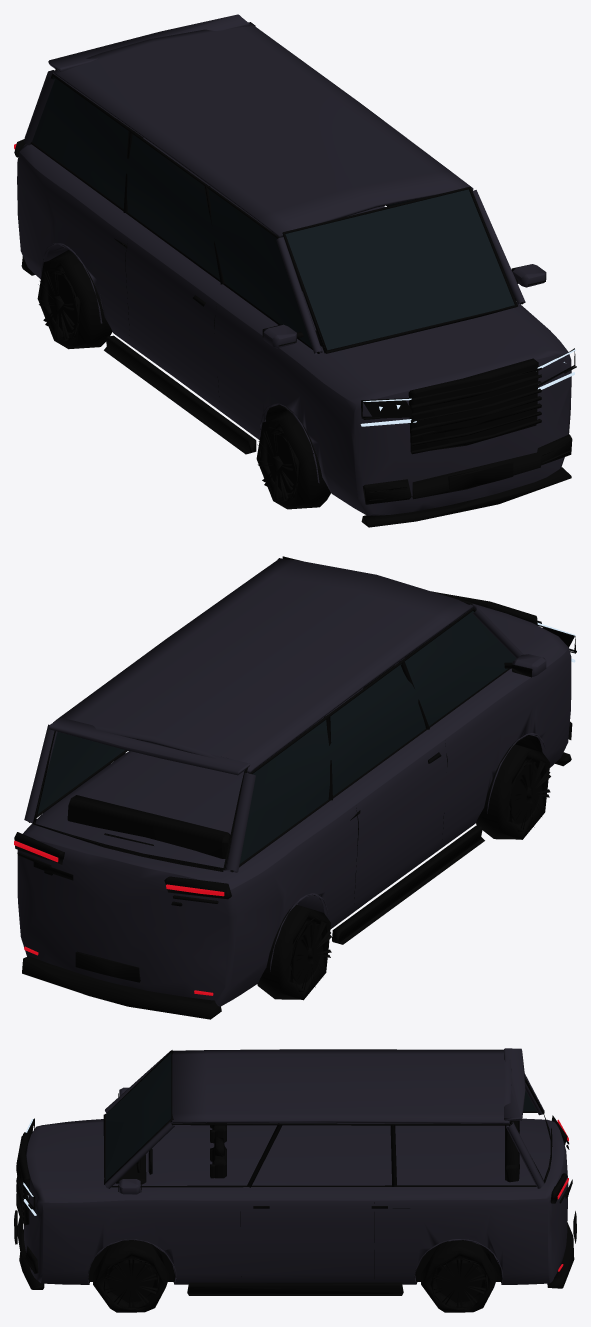
Rendered from vellfire-far.glb.
3 views of the same model, one above another, from view 1: azimuth 30°, elevation 25°; view 2: azimuth 150°, elevation 25°; view 3: azimuth 270°, elevation 25° (orthographic). The views are drawn at different scales.
Visible parts, largest first — view 1: chassis.001__Automotive clearcoat, chassis.001__Solar glass, chassis.001__Vehicle detail atlas, wheel_RL.001__Vehicle detail atlas, wheel_FL.001__Vehicle detail atlas; view 2: chassis.001__Automotive clearcoat, chassis.001__Solar glass, chassis.001__Vehicle detail atlas, wheel_FL.001__Vehicle detail atlas, wheel_RL.001__Vehicle detail atlas, chassis.001__Red LED optics; view 3: chassis.001__Automotive clearcoat, chassis.001__Vehicle detail atlas, chassis.001__Solar glass, wheel_FR.001__Vehicle detail atlas, wheel_RR.001__Vehicle detail atlas.
Part boxes in pixels (left/top/right/bottom): chassis.001__Automotive clearcoat: left=17, top=14, right=571, bottom=515; chassis.001__Solar glass: left=32, top=77, right=514, bottom=350; chassis.001__Vehicle detail atlas: left=14, top=68, right=575, bottom=527; wheel_RL.001__Vehicle detail atlas: left=37, top=250, right=112, bottom=349; wheel_FL.001__Vehicle detail atlas: left=256, top=410, right=330, bottom=509; chassis.001__Automotive clearcoat: left=17, top=558, right=571, bottom=1006; chassis.001__Solar glass: left=37, top=611, right=516, bottom=863; chassis.001__Vehicle detail atlas: left=14, top=556, right=575, bottom=1019; wheel_FL.001__Vehicle detail atlas: left=476, top=744, right=550, bottom=839; wheel_RL.001__Vehicle detail atlas: left=257, top=905, right=331, bottom=1000; chassis.001__Red LED optics: left=14, top=840, right=224, bottom=995; chassis.001__Automotive clearcoat: left=23, top=1048, right=568, bottom=1284; chassis.001__Vehicle detail atlas: left=14, top=1050, right=576, bottom=1295; chassis.001__Solar glass: left=105, top=1053, right=536, bottom=1181; wheel_FR.001__Vehicle detail atlas: left=92, top=1240, right=169, bottom=1312; wheel_RR.001__Vehicle detail atlas: left=420, top=1240, right=498, bottom=1312.
Bounding box in the file's own units: 2.16 × 1.94 × 5.15.
Materials: 8 (6 with a texture image).
